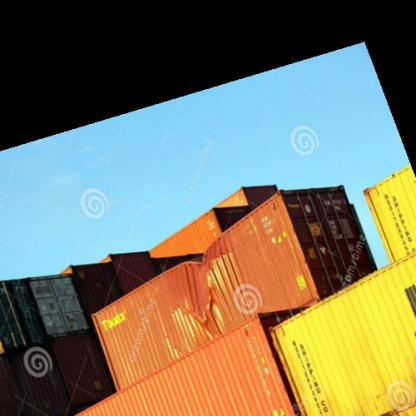Damage: (173, 242, 229, 327)
